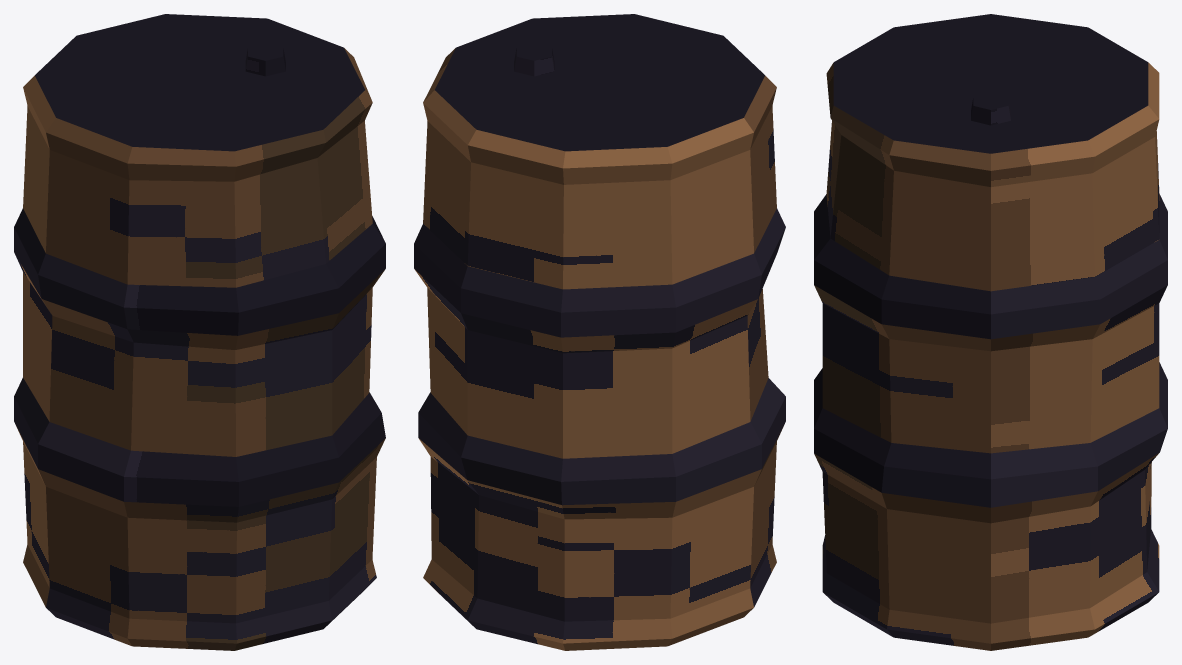
The model's file is MOB-01_Barril_de_aceite.gltf.
3 views of the same model, side by side, from view 1: azimuth 30°, elevation 25°; view 2: azimuth 150°, elevation 25°; view 3: azimuth 270°, elevation 25° (orthographic).
Visible parts, largest first — view 1: MOB-01_Barril_de_aceite; view 2: MOB-01_Barril_de_aceite; view 3: MOB-01_Barril_de_aceite.
Part boxes in pixels (x1,y1,x2,y2): MOB-01_Barril_de_aceite: (14, 14, 385, 650); MOB-01_Barril_de_aceite: (414, 14, 785, 650); MOB-01_Barril_de_aceite: (814, 14, 1167, 650).
Size of what is drawn, in the model's own units: 0.6107 by 0.926 by 0.5808.
Materials: 1 (1 with a texture image).
